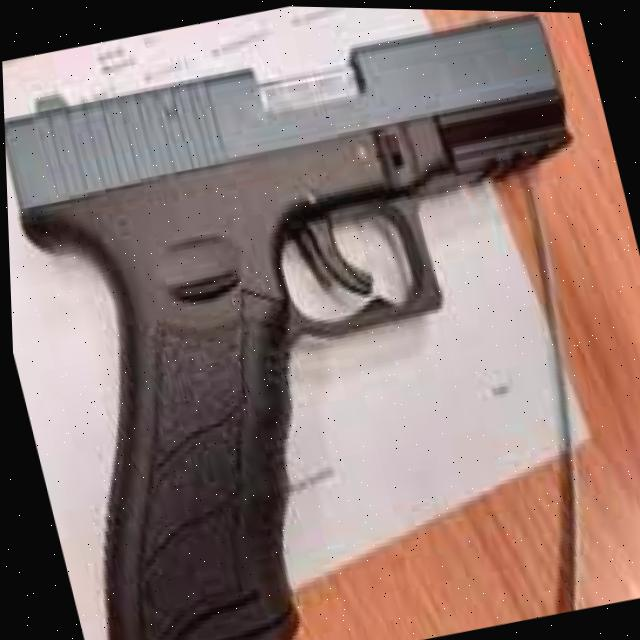gun: (4, 13, 572, 640)
